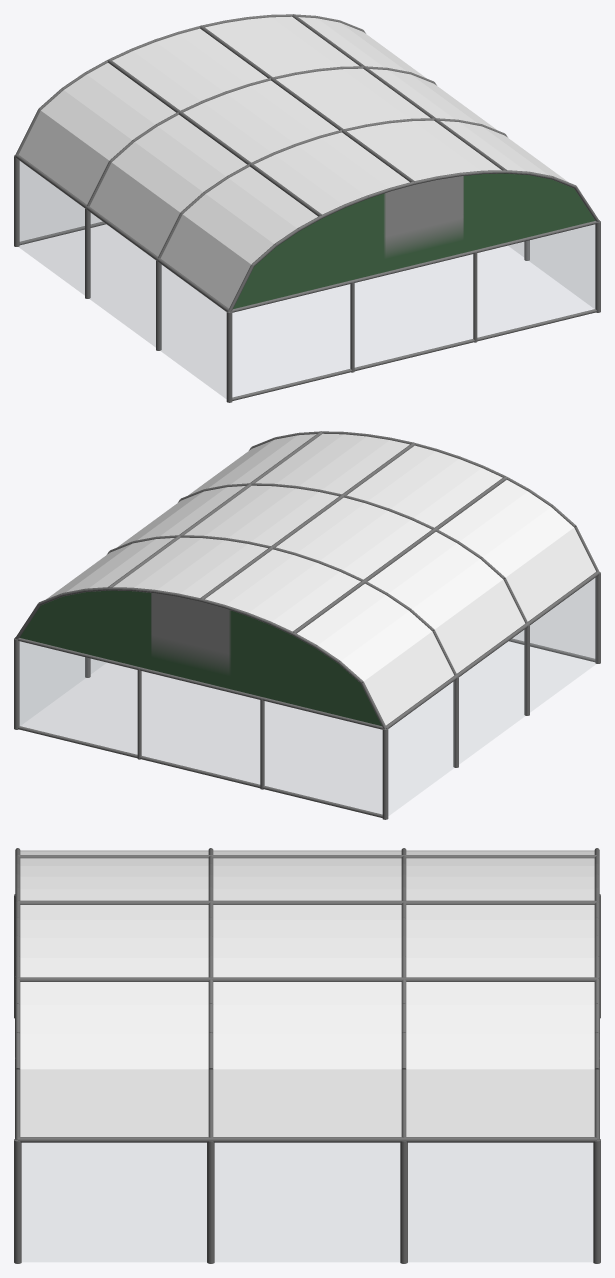
File: Hierro 12 mts.glb
The picture shows the model from 3 angles, top to bottom: view 1: azimuth 30°, elevation 25°; view 2: azimuth 150°, elevation 25°; view 3: azimuth 270°, elevation 25°; orthographic projection. The views are drawn at different scales.
Parts seen in each view (by area): view 1: Timpano_Frente, Pared_Frente_0, Pared_Frente_2, Pared_Frente_1, Lat_I_1, Lat_I_3, Lat_I_2, Techo_2_0, Techo_1_0, Techo_3_0, Lat_D_1, Pared_Fondo_0 (+53 smaller); view 2: Timpano_Fondo, Pared_Fondo_0, Pared_Fondo_2, Pared_Fondo_1, Lat_I_1, Lat_I_3, Lat_I_2, Techo_2_0, Techo_3_0, Techo_1_0, Lat_D_3, Pared_Frente_0 (+53 smaller); view 3: Lat_D_1, Lat_D_2, Lat_D_3, Techo_1_15, Techo_2_15, Techo_3_15, Techo_1_14, Techo_2_14, Techo_3_14, Techo_1_13, Techo_2_13, Techo_3_13 (+38 smaller).
Part boxes in pixels (x1=…): Timpano_Frente: x1=233, y1=173, x2=595, y2=308; Pared_Frente_0: x1=232, y1=284, x2=350, y2=396; Pared_Frente_2: x1=477, y1=225, x2=595, y2=337; Pared_Frente_1: x1=355, y1=254, x2=472, y2=367; Lat_I_1: x1=160, y1=264, x2=226, y2=398; Lat_I_3: x1=18, y1=160, x2=84, y2=294; Lat_I_2: x1=89, y1=212, x2=155, y2=346; Techo_2_0: x1=89, y1=162, x2=180, y2=256; Techo_1_0: x1=160, y1=214, x2=250, y2=308; Techo_3_0: x1=19, y1=111, x2=109, y2=204; Lat_D_1: x1=529, y1=225, x2=594, y2=308; Pared_Fondo_0: x1=20, y1=162, x2=101, y2=240; Timpano_Fondo: x1=19, y1=590, x2=381, y2=725; Pared_Fondo_0: x1=264, y1=701, x2=382, y2=813; Pared_Fondo_2: x1=19, y1=642, x2=137, y2=754; Pared_Fondo_1: x1=142, y1=671, x2=259, y2=784; Lat_I_1: x1=530, y1=577, x2=596, y2=711; Lat_I_3: x1=388, y1=681, x2=454, y2=815; Lat_I_2: x1=459, y1=629, x2=525, y2=763; Techo_2_0: x1=434, y1=579, x2=525, y2=673; Techo_3_0: x1=364, y1=631, x2=454, y2=725; Techo_1_0: x1=505, y1=528, x2=595, y2=621; Lat_D_3: x1=20, y1=642, x2=85, y2=725; Pared_Frente_0: x1=513, y1=579, x2=594, y2=657; Lat_D_1: x1=22, y1=1143, x2=206, y2=1261; Lat_D_2: x1=215, y1=1143, x2=399, y2=1261; Lat_D_3: x1=408, y1=1143, x2=592, y2=1261; Techo_1_15: x1=20, y1=1069, x2=208, y2=1136; Techo_2_15: x1=213, y1=1069, x2=401, y2=1136; Techo_3_15: x1=406, y1=1069, x2=594, y2=1136; Techo_1_14: x1=20, y1=1034, x2=208, y2=1069; Techo_2_14: x1=213, y1=1034, x2=401, y2=1069; Techo_3_14: x1=406, y1=1034, x2=594, y2=1069; Techo_1_13: x1=20, y1=1005, x2=208, y2=1033; Techo_2_13: x1=213, y1=1005, x2=401, y2=1033; Techo_3_13: x1=406, y1=1005, x2=594, y2=1033.
Bounding box in the file's own units: 12.16 × 5.46 × 12.16.
4 materials, 1 textured.
